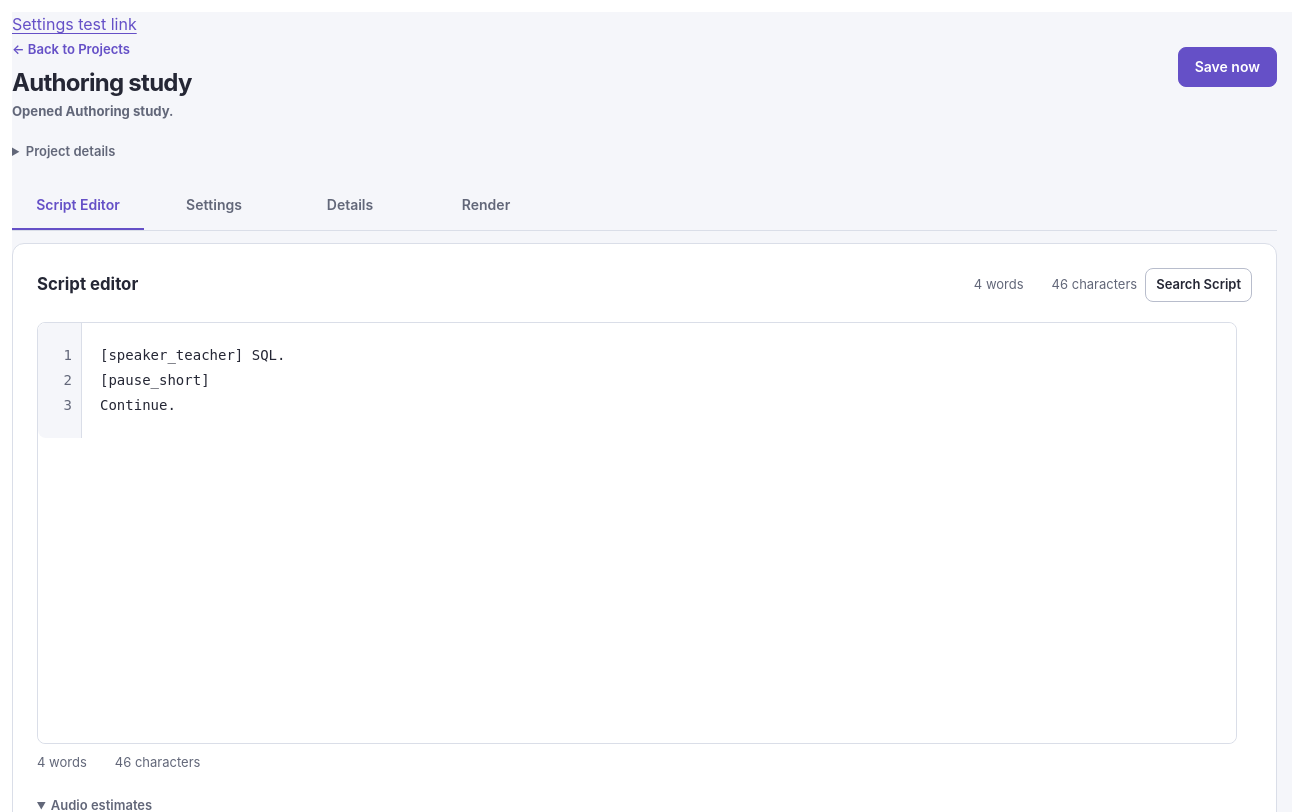
it: Projects workbench › uses the global voice catalog before a project connection is selected
Click the tab "Settings" at {"x": 214, "y": 206}, box [148,182,280,230]
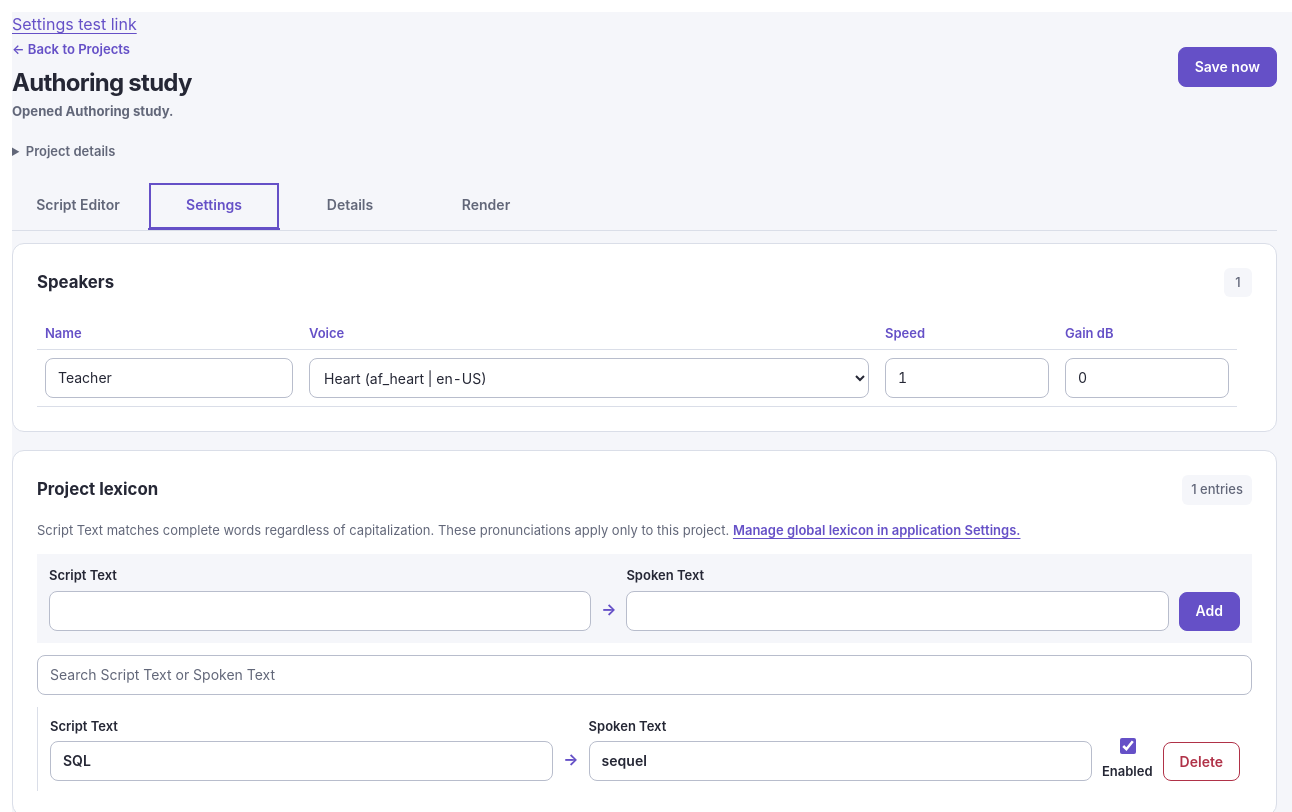
Now the dropdown named "Voice for speaker teacher" is enabled, box [309,358,869,398]
Now the dropdown named "Voice for speaker teacher" shows "Heart (af_heart | en-US)", box [309,358,869,398]
